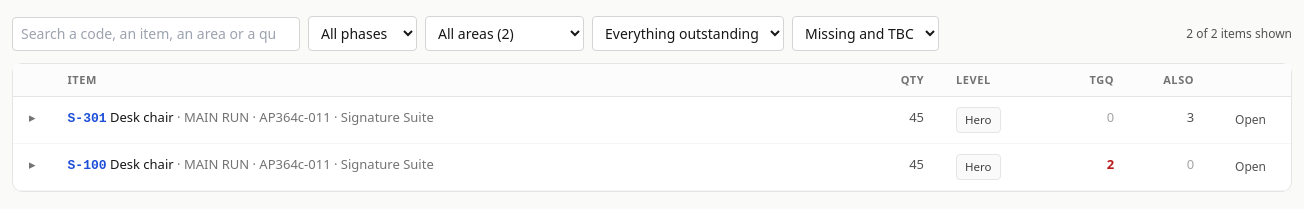
Scenario: InfillTable › hides a line with nothing in the half being filtered for, and keeps one that has some
Step 1. Select "TGQ only" in the dropdown named "Filter by what blocks a quote" → [688, 34], box [592,16,784,51]
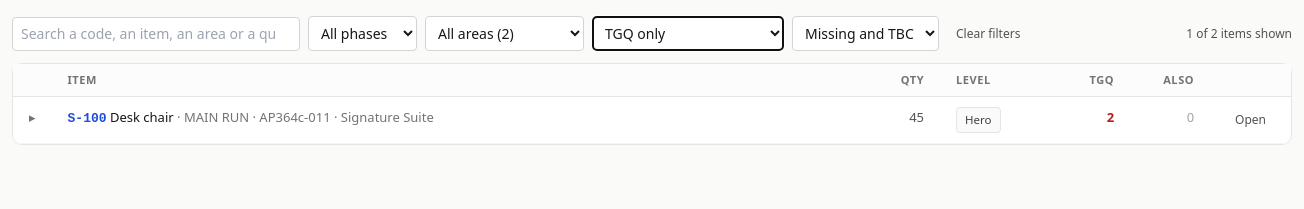
Expected: the link "S-100" is shown, [68,111,106,126]
Result: the link "S-301" is gone
